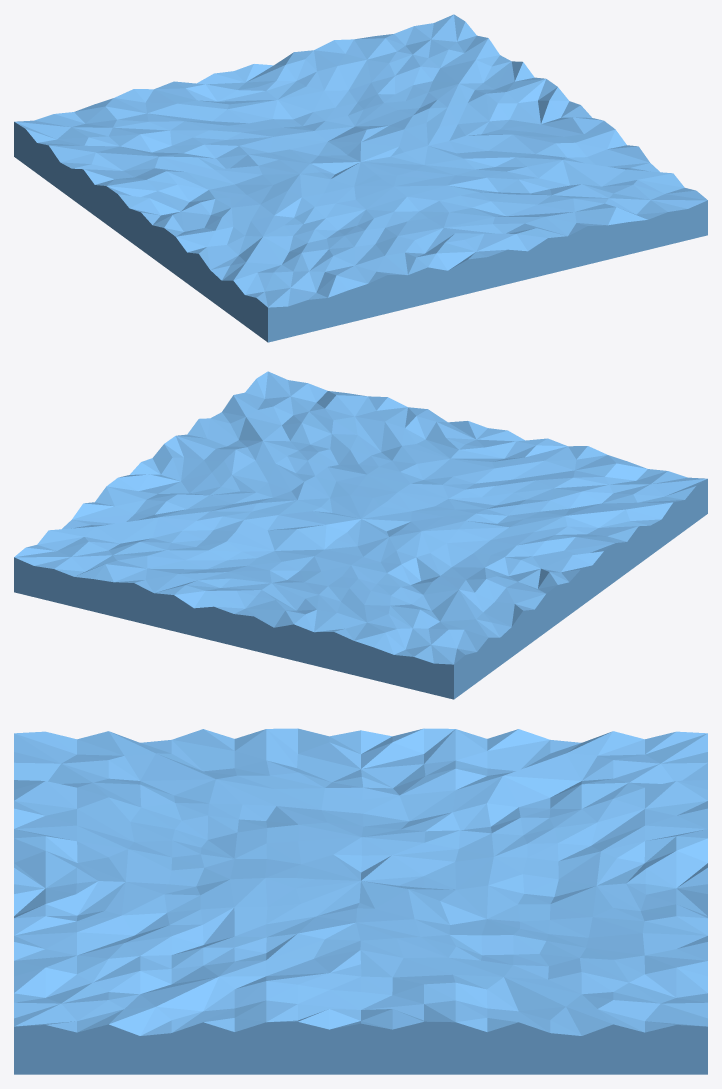
The model's file is AO_Water.fbx.
The picture shows the model from 3 angles, top to bottom: view 1: azimuth 30°, elevation 25°; view 2: azimuth 150°, elevation 25°; view 3: azimuth 270°, elevation 25°; orthographic projection. The views are drawn at different scales.
Visible parts, largest first — view 1: AO_Water; view 2: AO_Water; view 3: AO_Water.
Boxes of the visible parts, bbox=[...] form: AO_Water: bbox=[14, 14, 707, 342]; AO_Water: bbox=[14, 371, 707, 699]; AO_Water: bbox=[14, 728, 707, 1074].
Size of the model in its own units: 980 by 83.46 by 980.
Materials: 1 (1 with a texture image).
